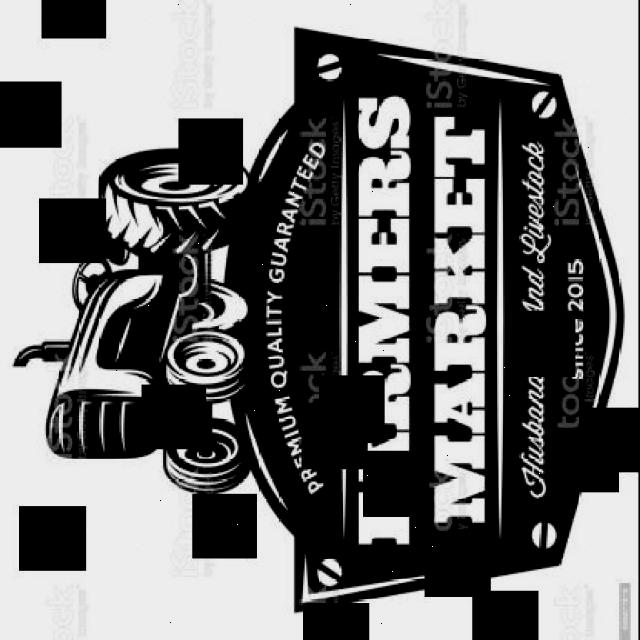Tratores - v5 YOLO V8L 2024-11-13: (2, 86, 258, 548)
